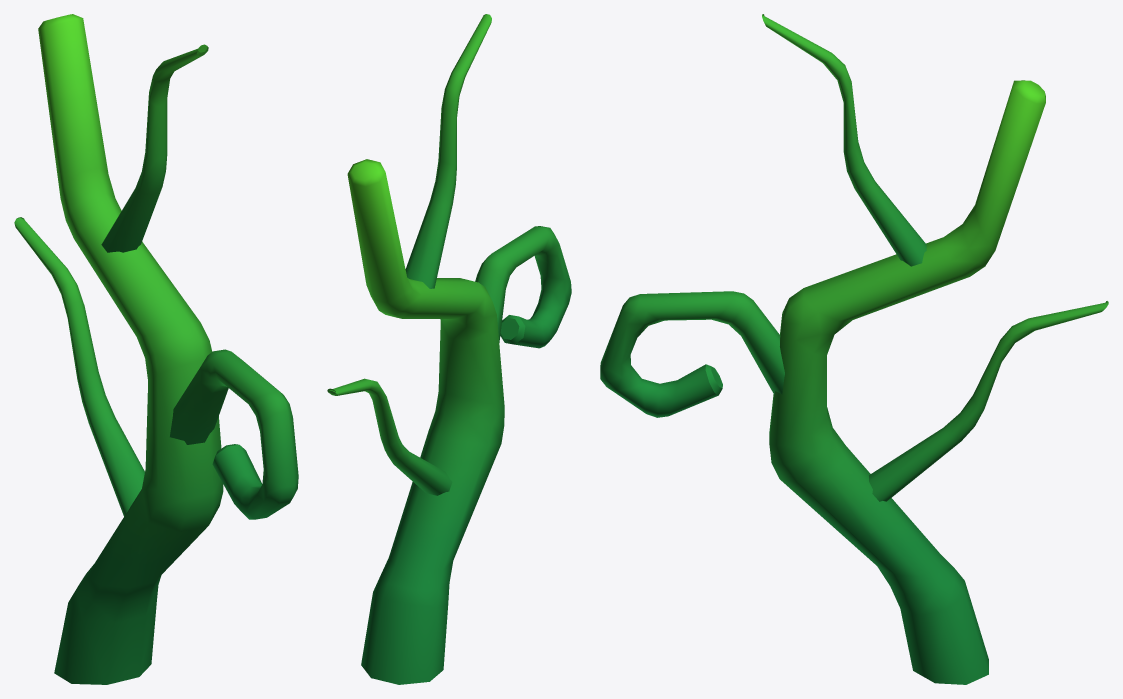
The model's file is Vine_4_1.glb.
3 views of the same model, side by side, from view 1: azimuth 30°, elevation 25°; view 2: azimuth 150°, elevation 25°; view 3: azimuth 270°, elevation 25° (orthographic). The views are drawn at different scales.
Parts seen in each view (by area): view 1: Vine_4_1; view 2: Vine_4_1; view 3: Vine_4_1.
Part boxes in pixels (x1,y1,x2,y2): Vine_4_1: (14, 14, 298, 684); Vine_4_1: (327, 14, 571, 684); Vine_4_1: (600, 14, 1108, 684).
Size of the model in its own units: 0.1173 by 0.9666 by 0.6831.
1 material, 1 textured.
